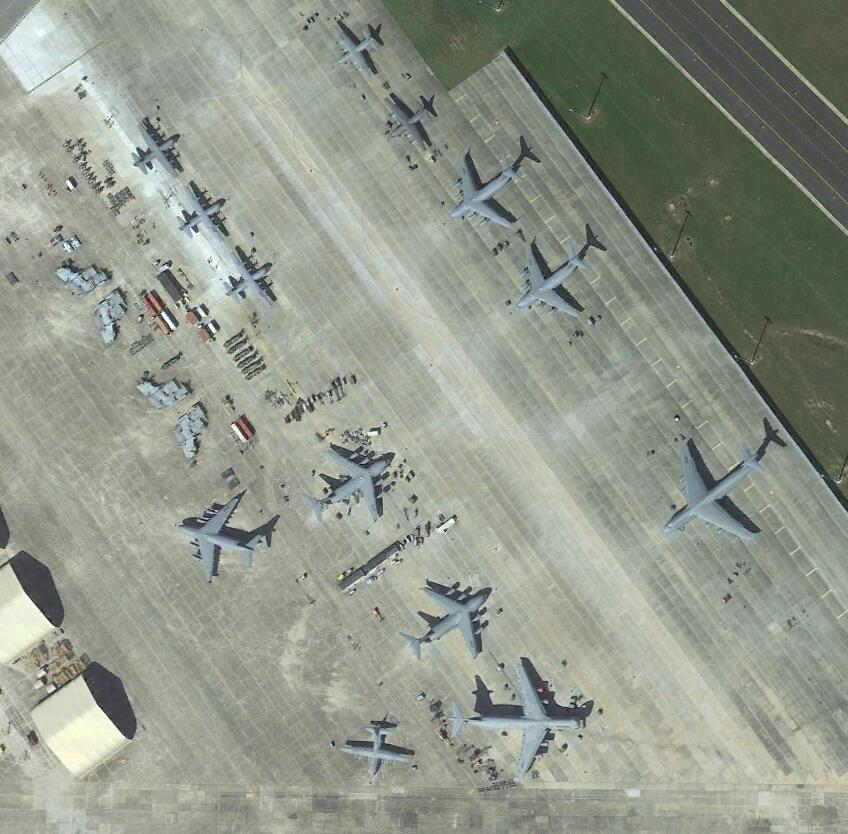A2: (340, 727, 416, 777), (381, 95, 439, 156), (221, 246, 277, 307), (175, 183, 230, 243), (330, 19, 385, 78), (129, 120, 180, 179)
A3: (178, 495, 265, 586), (402, 584, 495, 660), (307, 445, 393, 527), (449, 156, 525, 233), (514, 242, 590, 319)
A4: (449, 658, 586, 778), (663, 443, 763, 541)
